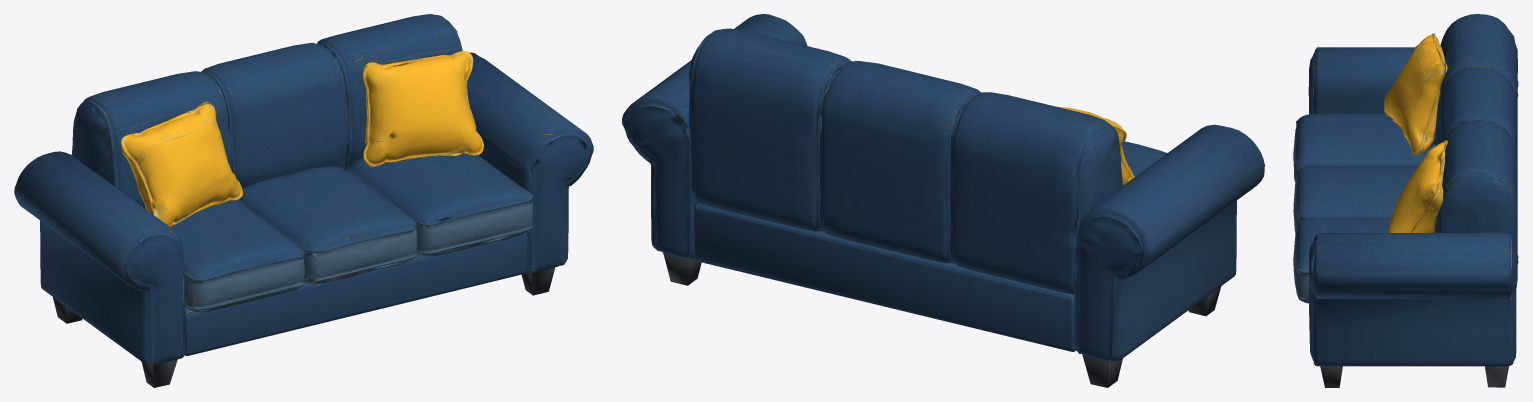
The model's file is sofa.glb.
The picture shows the model from 3 angles, left to right: view 1: azimuth 30°, elevation 25°; view 2: azimuth 150°, elevation 25°; view 3: azimuth 270°, elevation 25°; orthographic projection. The views are drawn at different scales.
Bounding box in the file's own units: 0.9575 × 0.4253 × 0.4185.
Materials: 1 (1 with a texture image).
